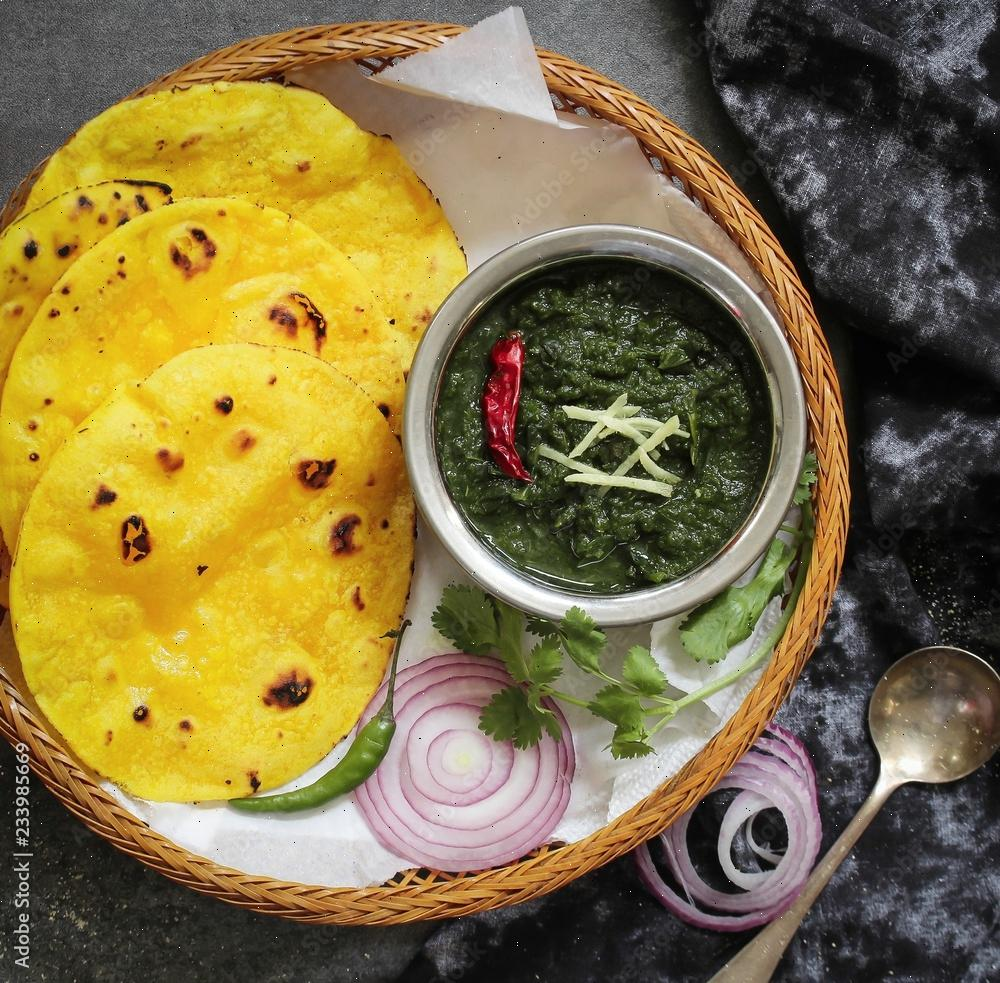saag: (436, 252, 778, 597)
